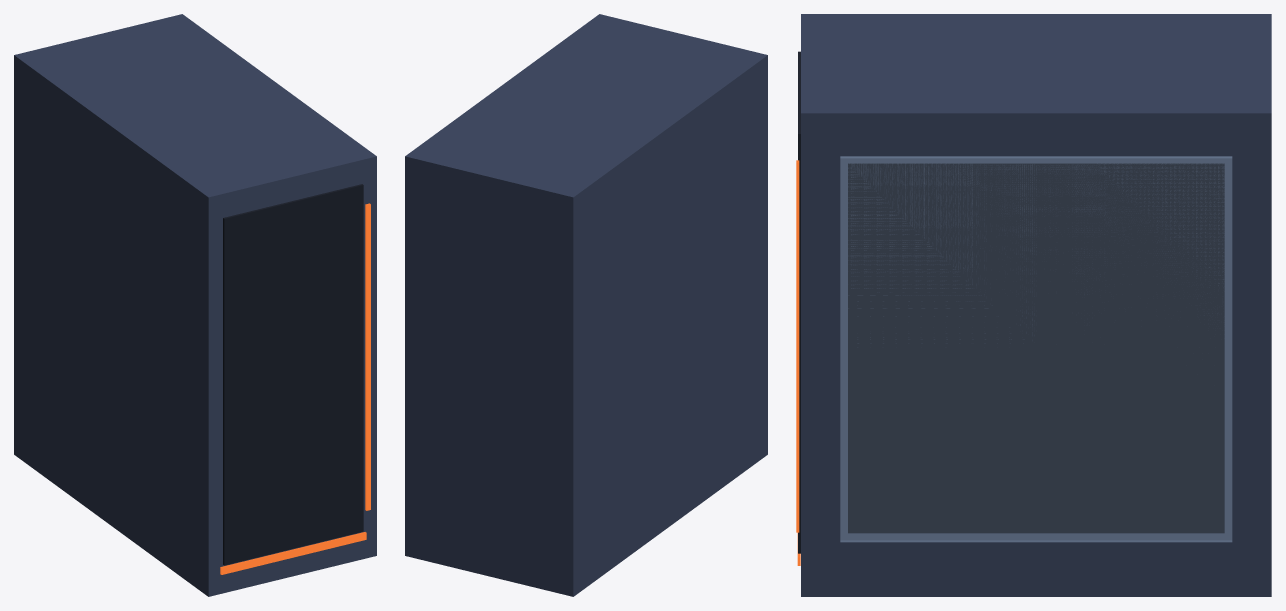
Rendered from tower.glb.
3 renders of one model, left to right at view 1: azimuth 30°, elevation 25°; view 2: azimuth 150°, elevation 25°; view 3: azimuth 270°, elevation 25°, orthographic. The views are drawn at different scales.
Visible parts, largest first — view 1: body (×2), grille, status (×2); view 2: body (×2); view 3: glass (×2), body (×2), interior, status, grille.
Boxes of the visible parts, <box> form: body (×2): <box>14,14,376,596</box>; grille: <box>223,184,363,565</box>; status (×2): <box>220,203,370,574</box>; body (×2): <box>405,14,767,596</box>; glass (×2): <box>840,156,1231,541</box>; body (×2): <box>801,14,1271,596</box>; interior: <box>848,163,1224,533</box>; status: <box>796,160,799,532</box>; grille: <box>798,51,800,553</box>.
Size of the model in its own units: 1.53 by 3.4 by 3.03.
